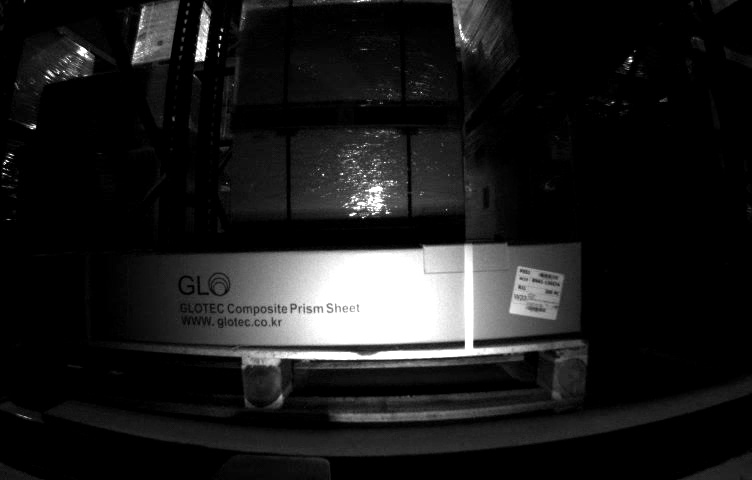True Barcode: (510, 264, 562, 322)
